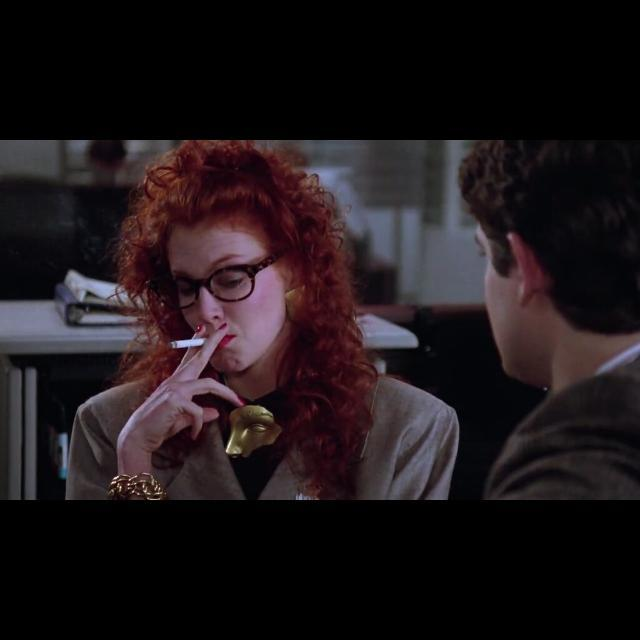rokok: (167, 334, 210, 352)
